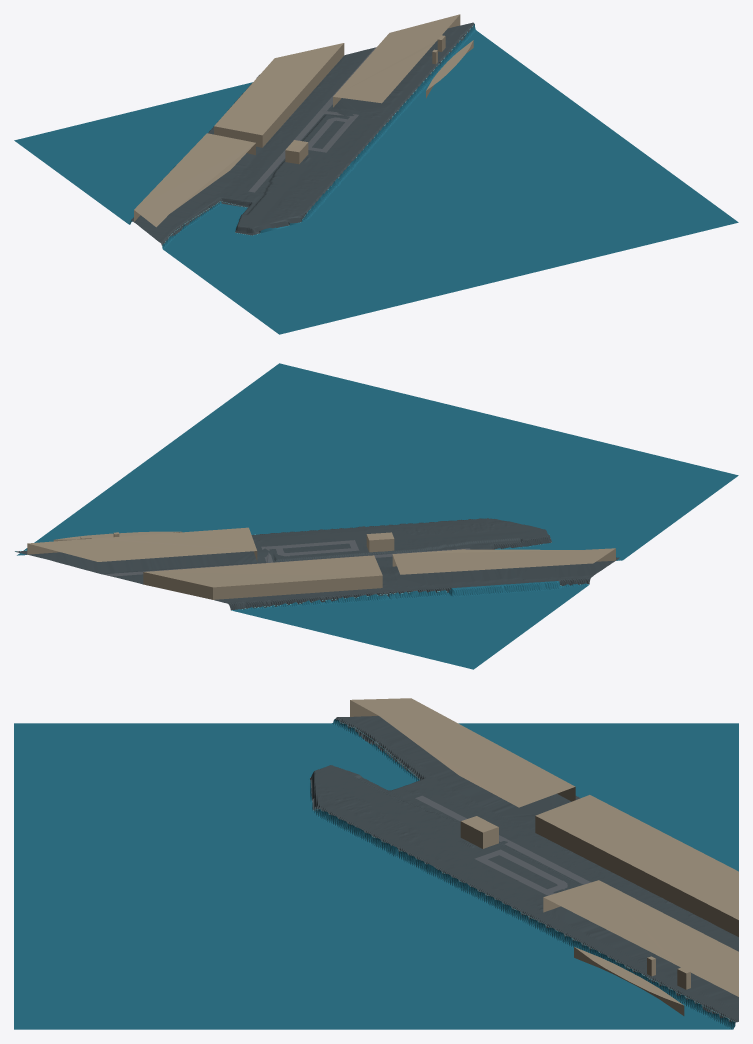
The model's file is epsg26910-1435-10898.lod0.glb.
3 renders of one model, top to bottom at view 1: azimuth 30°, elevation 25°; view 2: azimuth 150°, elevation 25°; view 3: azimuth 270°, elevation 25°, orthographic. The views are drawn at different scales.
Parts seen in each view (by area): view 1: epsg26910-1435-10898-lod0; view 2: epsg26910-1435-10898-lod0; view 3: epsg26910-1435-10898-lod0.
Boxes of the visible parts, left/top/right/bottom form: epsg26910-1435-10898-lod0: left=14, top=14, right=738, bottom=334; epsg26910-1435-10898-lod0: left=15, top=363, right=738, bottom=669; epsg26910-1435-10898-lod0: left=14, top=698, right=738, bottom=1029.
Bounding box in the file's own units: 384 × 14.99 × 384.
